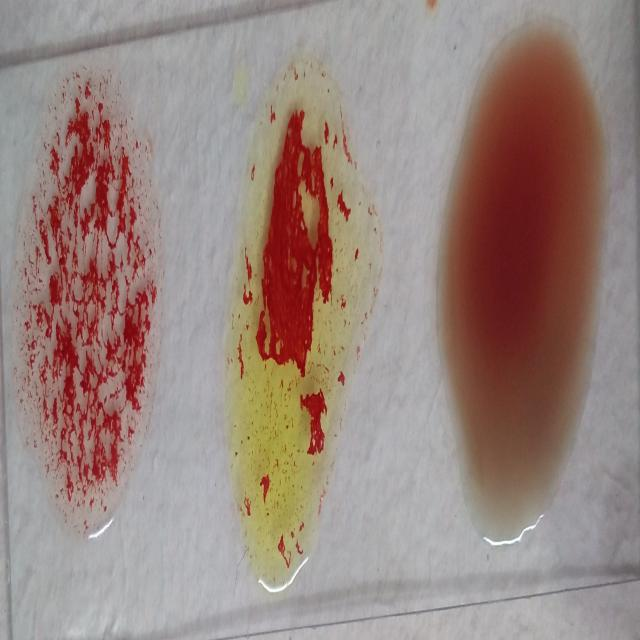B: (223, 60, 368, 599)
D: (20, 69, 150, 532)
